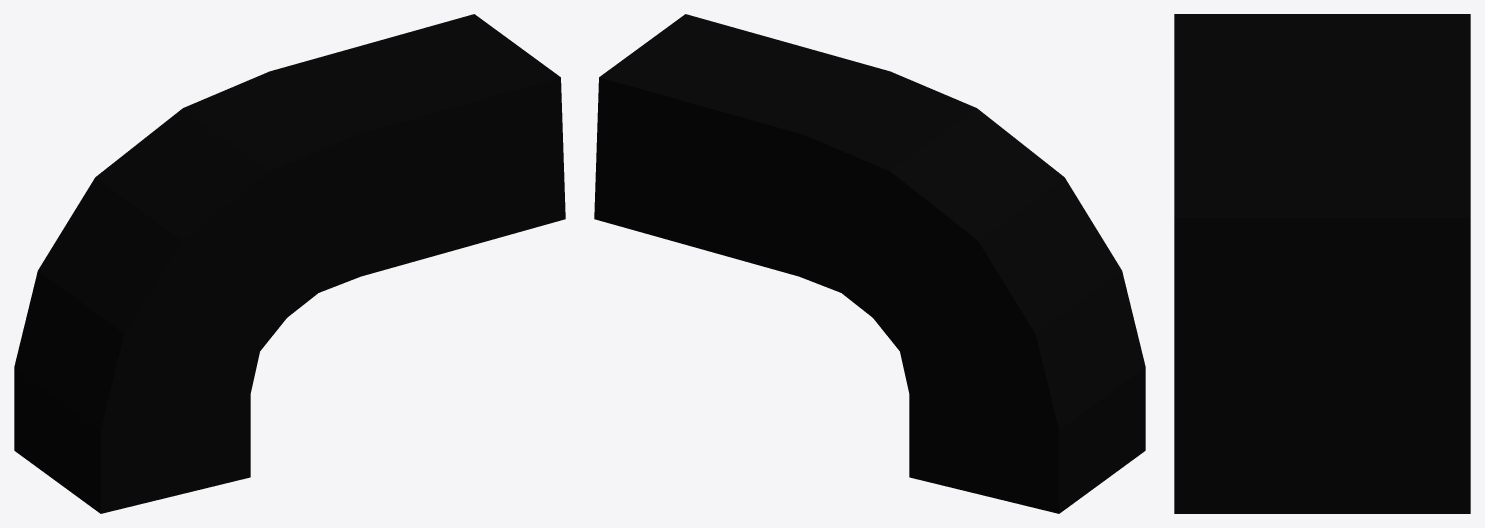
Rendered from wandao.FBX.
3 views of the same model, side by side, from view 1: azimuth 30°, elevation 25°; view 2: azimuth 150°, elevation 25°; view 3: azimuth 270°, elevation 25° (orthographic). The views are drawn at different scales.
Visible parts, largest first — view 1: Box001; view 2: Box001; view 3: Box001.
Part boxes in pixels (<box>): Box001: <box>14,14,565,513</box>; Box001: <box>594,14,1145,513</box>; Box001: <box>1174,14,1470,513</box>.
Bounding box in the file's own units: 77.27 × 51.51 × 24.91.
